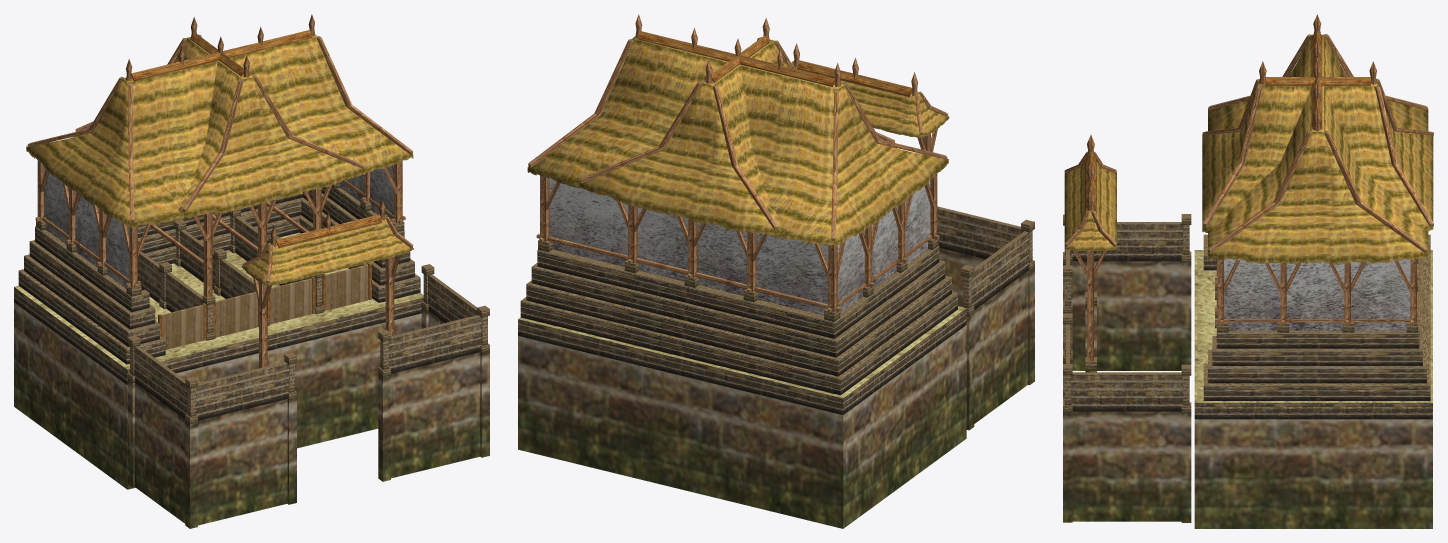
The model's file is stable_elephant.dae.
3 views of the same model, side by side, from view 1: azimuth 30°, elevation 25°; view 2: azimuth 150°, elevation 25°; view 3: azimuth 270°, elevation 25° (orthographic). The views are drawn at different scales.
Parts seen in each view (by area): view 1: stable_elephant; view 2: stable_elephant; view 3: stable_elephant.
Boxes of the visible parts, bbox=[...] form: stable_elephant: bbox=[14, 14, 489, 528]; stable_elephant: bbox=[518, 14, 1034, 528]; stable_elephant: bbox=[1063, 14, 1433, 528].
Size of the model in its own units: 24.16 by 24.49 by 28.6.
